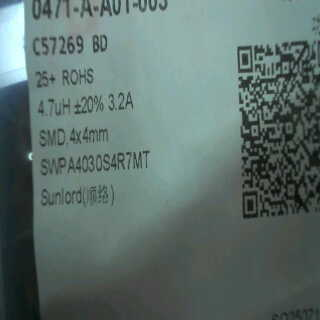4.7uH: (30, 95, 75, 122)
